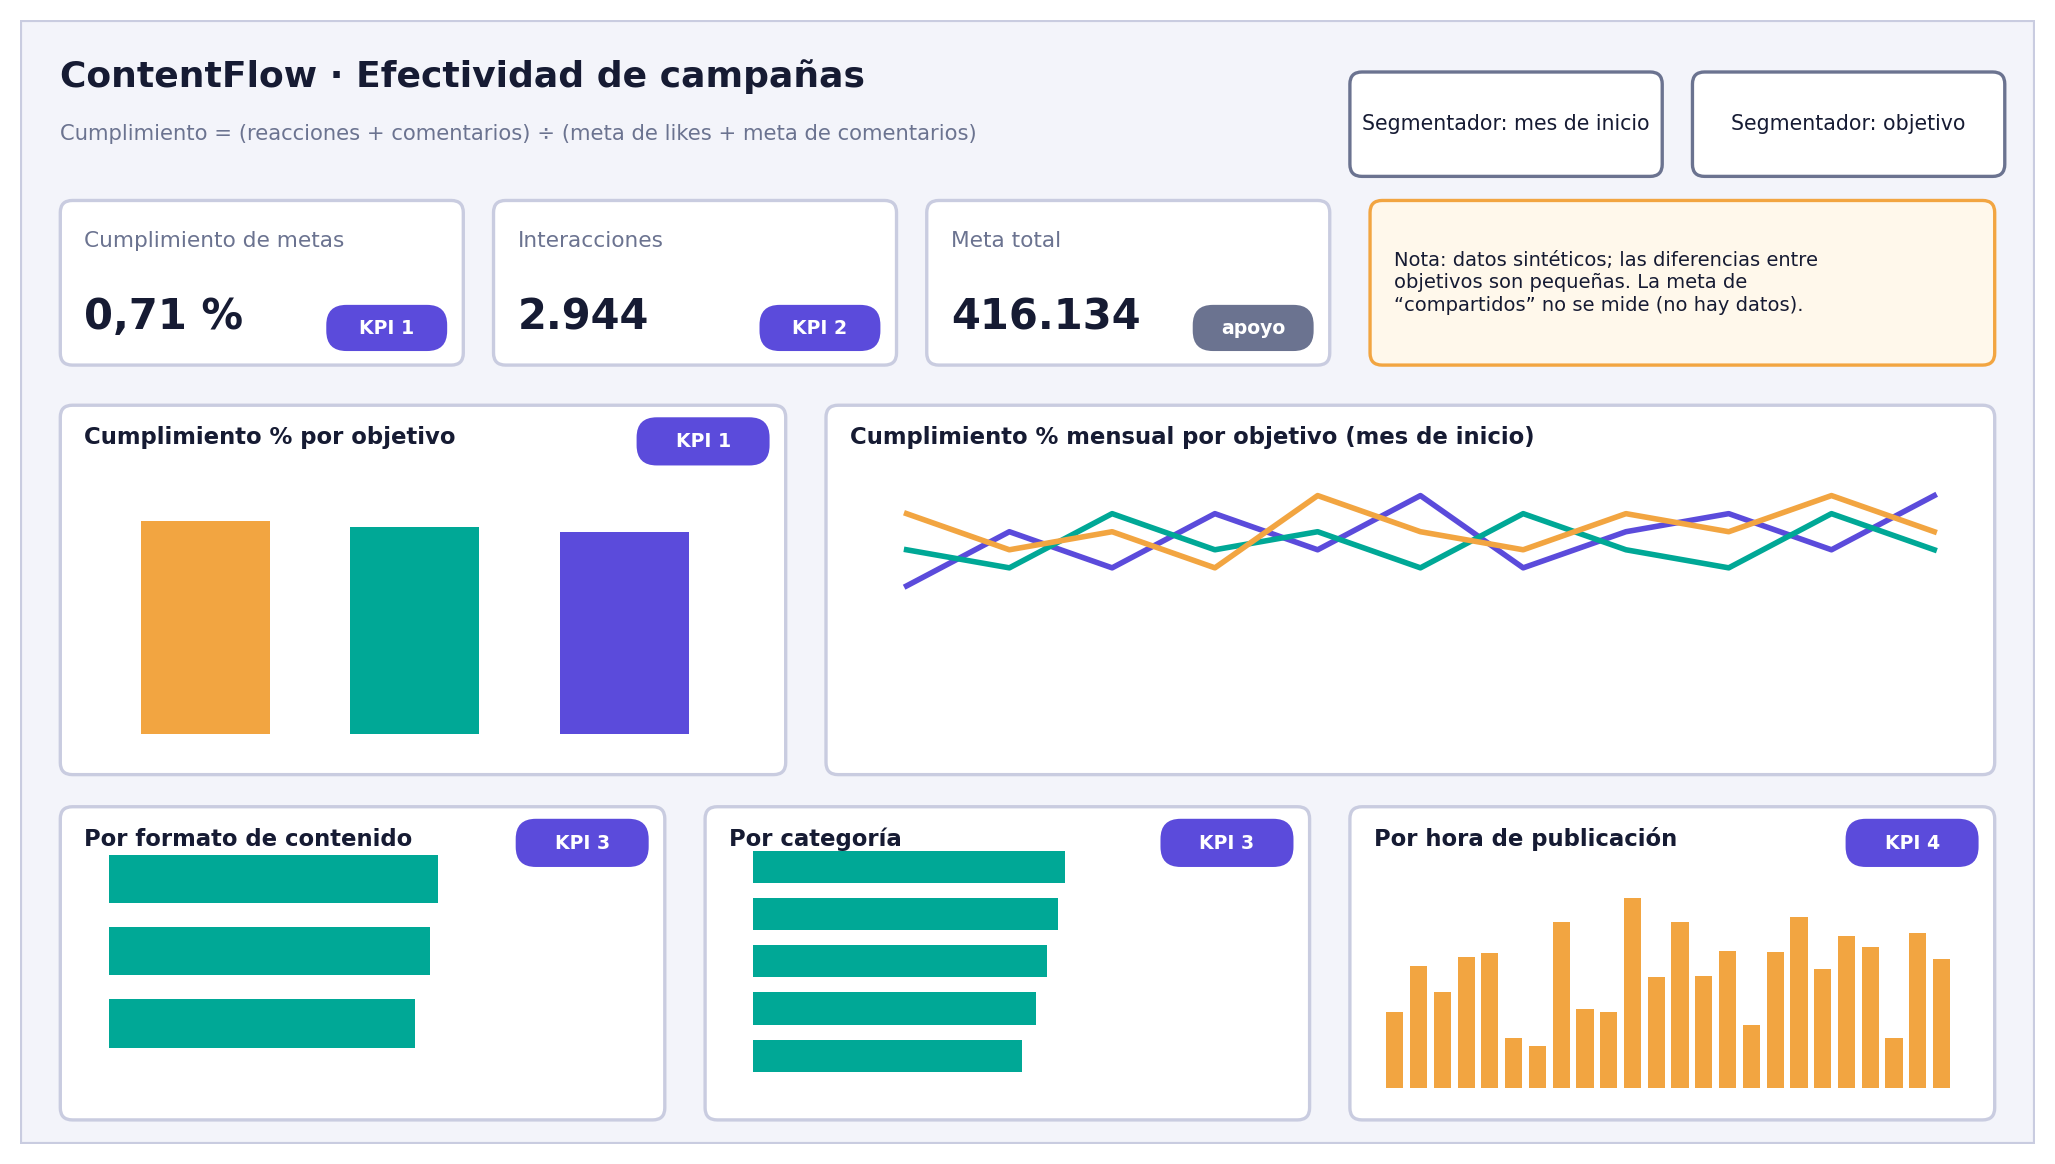

The page's visual inventory and layout, read from the dashboard file:
{"tool":"powerbi","page":{"name":"Página 1","canvas":[1920,1080],"ordinal":0},"visuals":[{"type":"clusteredColumnChart","title":"KPI 1: Cumplimiento de metas por objetivo","fields":{"Category":["campanas.objetivo"],"Series":["campanas.objetivo"],"Y":["campanas.Cumplimiento %"]},"box":[93.2,368.2,556.2,406.1],"z":0},{"type":"cardVisual","fields":{"Data":["campanas.Cumplimiento %"]},"box":[93.2,208.6,162.8,91.7],"z":1000},{"type":"cardVisual","fields":{"Data":["campanas.Interacciones"]},"box":[312.9,208.6,128,91.7],"z":2000},{"type":"textbox","box":[105.9,31.6,984.5,80.6],"z":4000},{"type":"textbox","box":[105.9,98,824.9,42.7],"z":5000},{"type":"slicer","fields":{"Values":["campanas.mes_inicio"]},"box":[769.6,194.4,289.2,118.5],"z":6000},{"type":"slicer","fields":{"Values":["campanas.objetivo"]},"box":[1120.4,194.4,383,150],"z":7000},{"type":"clusteredBarChart","title":"KPI 3: Interacciones por tipo de contenido","fields":{"Category":["publicaciones.tipo"],"Y":["publicaciones.Interacciones por contenido"]},"box":[679.5,368.2,589.4,406.1],"z":8000},{"type":"clusteredBarChart","title":"KPI 3: Interacciones por categoría de contenido","fields":{"Category":["publicaciones.categoria"],"Y":["publicaciones.Interacciones por contenido"]},"box":[1333.7,368.2,557.8,406.1],"z":9000},{"type":"columnChart","title":"KPI 4: Mejor horario de publicación (interacciones por hora)","fields":{"Category":["publicaciones.hora"],"Y":["publicaciones.Interacciones por contenido"]},"box":[93.2,802.8,1175.7,276.5],"z":10000},{"type":"lineChart","title":"Cumplimiento % mensual por objetivo","fields":{"Category":["campanas.mes_inicio.Variation.Jerarquía de fechas.Mes"],"Series":["campanas.objetivo"],"Y":["campanas.Cumplimiento %"]},"box":[1311.6,802.8,580,276.5],"z":10001},{"type":"cardVisual","fields":{"Data":["campanas.Meta total"]},"box":[459.9,208.6,139.1,91.7],"z":10002},{"type":"textbox","box":[1334,0,558,150],"z":10003}]}

Visuals, with their boxes in screenshot pixels (x1, y1, x2, y2), scaled from the page's 1920x1080 canvas onto the 2055x1164 screenshot:
"KPI 1: Cumplimiento de metas por objetivo" clusteredColumnChart: <region>100, 397, 695, 835</region>
cardVisual - campanas.Cumplimiento %: <region>100, 225, 274, 324</region>
cardVisual - campanas.Interacciones: <region>335, 225, 472, 324</region>
textbox: <region>113, 34, 1167, 121</region>
textbox: <region>113, 106, 996, 152</region>
slicer - campanas.mes_inicio: <region>824, 210, 1133, 337</region>
slicer - campanas.objetivo: <region>1199, 210, 1609, 371</region>
"KPI 3: Interacciones por tipo de contenido" clusteredBarChart: <region>727, 397, 1358, 835</region>
"KPI 3: Interacciones por categoría de contenido" clusteredBarChart: <region>1427, 397, 2024, 835</region>
"KPI 4: Mejor horario de publicación (interacciones por hora)" columnChart: <region>100, 865, 1358, 1163</region>
"Cumplimiento % mensual por objetivo" lineChart: <region>1404, 865, 2025, 1163</region>
cardVisual - campanas.Meta total: <region>492, 225, 641, 324</region>
textbox: <region>1428, 0, 2025, 162</region>
